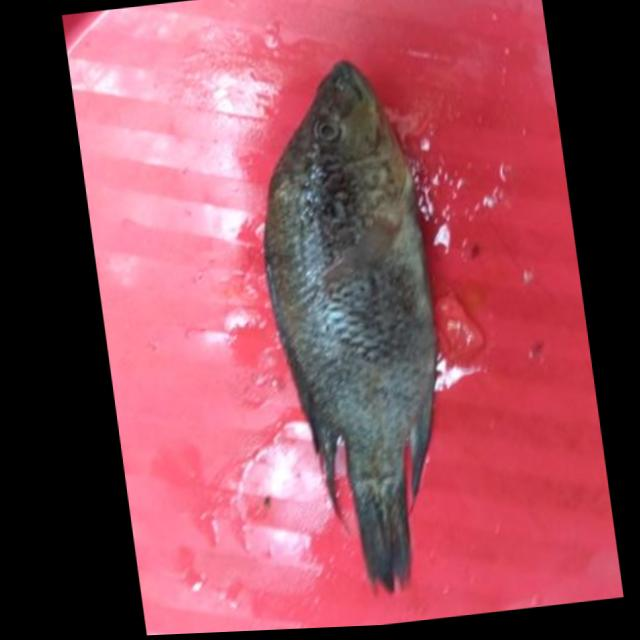Tilapia: (231, 49, 473, 598)
